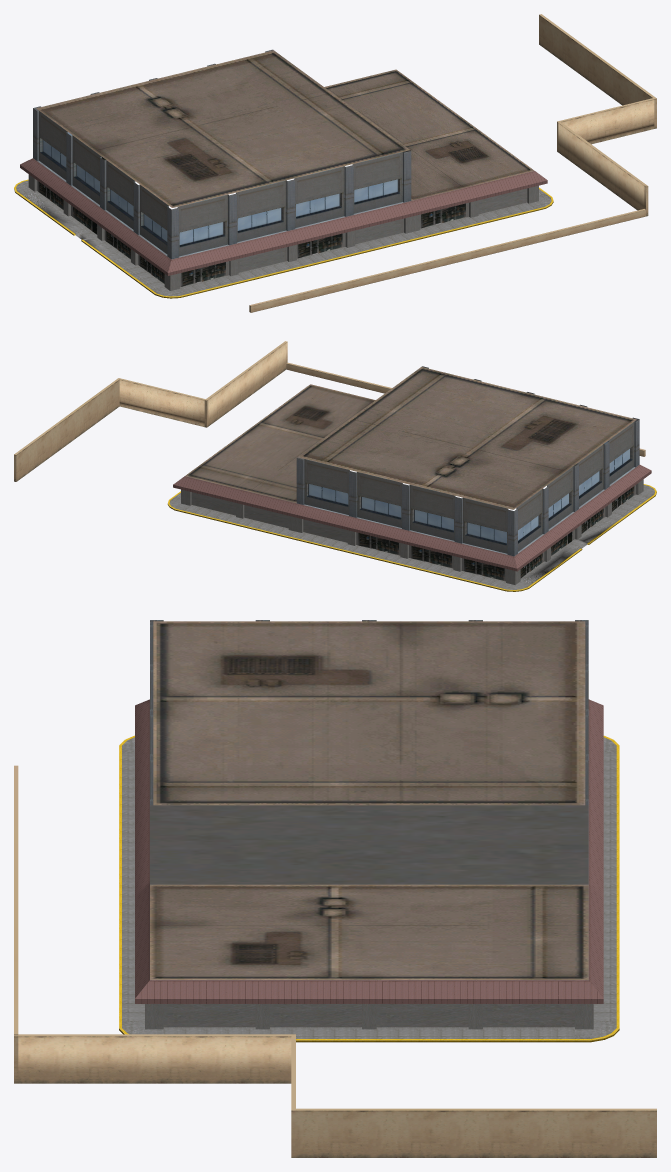
Rendered from vgnlowmall2.obj.
3 renders of one model, top to bottom at view 1: azimuth 30°, elevation 25°; view 2: azimuth 150°, elevation 25°; view 3: azimuth 270°, elevation 25°, orthographic. The views are drawn at different scales.
Visible parts, largest first — view 1: vgnlowmall2; view 2: vgnlowmall2; view 3: vgnlowmall2.
Boxes of the visible parts, x1=… form: vgnlowmall2: x1=14, y1=14, x2=656, y2=312; vgnlowmall2: x1=14, y1=341, x2=656, y2=591; vgnlowmall2: x1=14, y1=620, x2=656, y2=1157.
Size of the model in its own units: 111 by 15.7 by 71.23.
7 materials, 7 textured.
